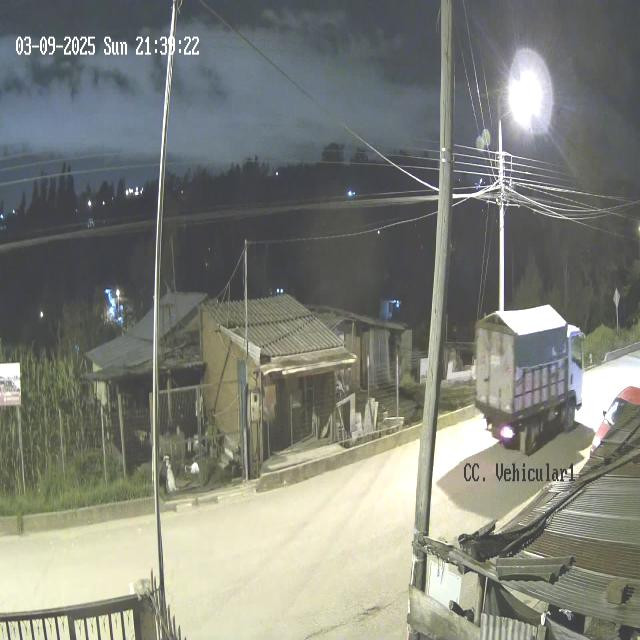TRUCK: (474, 305, 584, 455)
